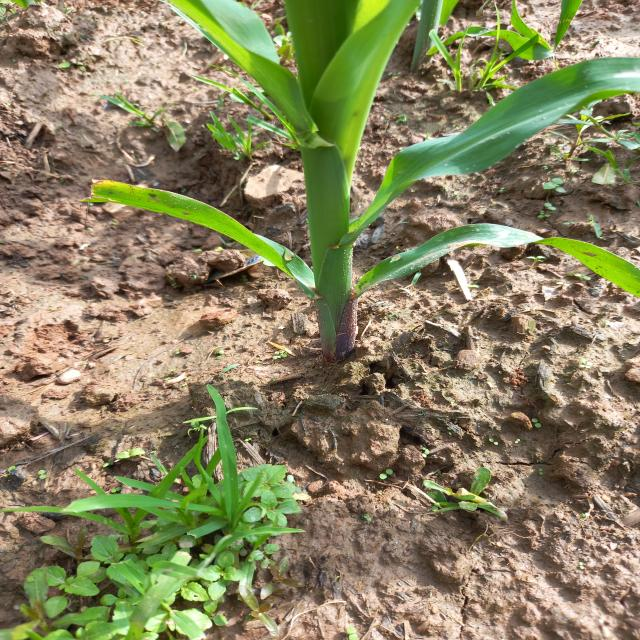maize: (53, 0, 640, 380)
weed: (2, 416, 316, 640), (89, 81, 212, 150), (397, 464, 517, 520), (434, 17, 522, 90), (203, 99, 264, 169), (583, 215, 622, 242), (524, 406, 554, 433), (537, 176, 579, 194), (531, 202, 568, 220)
